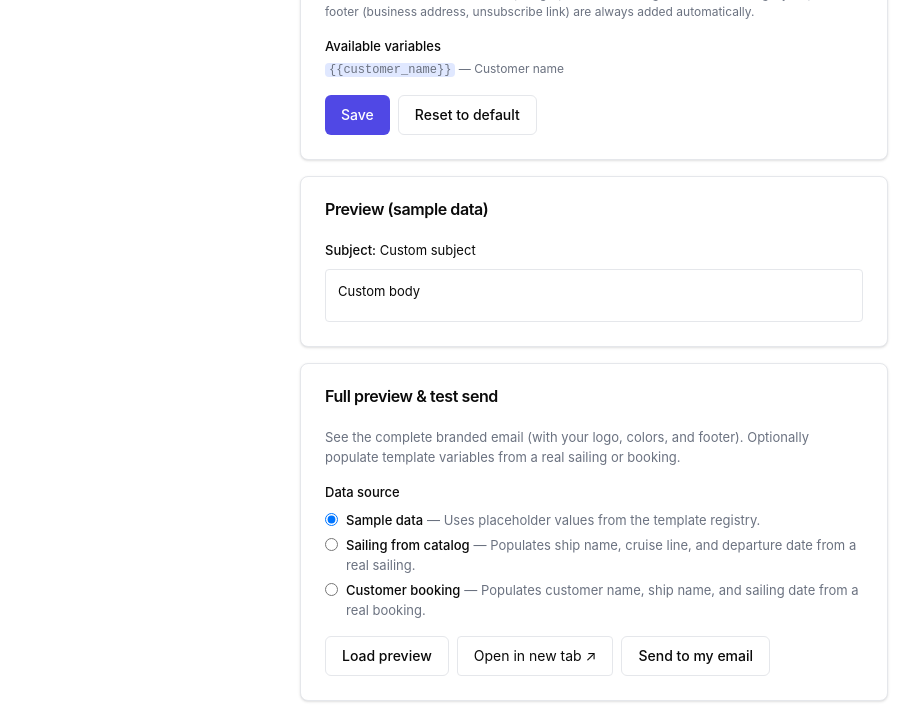
Test: EmailTemplatesSettingsPage — template-switch cascade reset (#1812) › clears the sailing selection chain and any loaded preview html on template-type switch
This screenshot has width=905, height=709.
(page scrolled)
Click the radio button labelled "Sailing from catalog". click: (332,544)
box: [325,538,338,551]
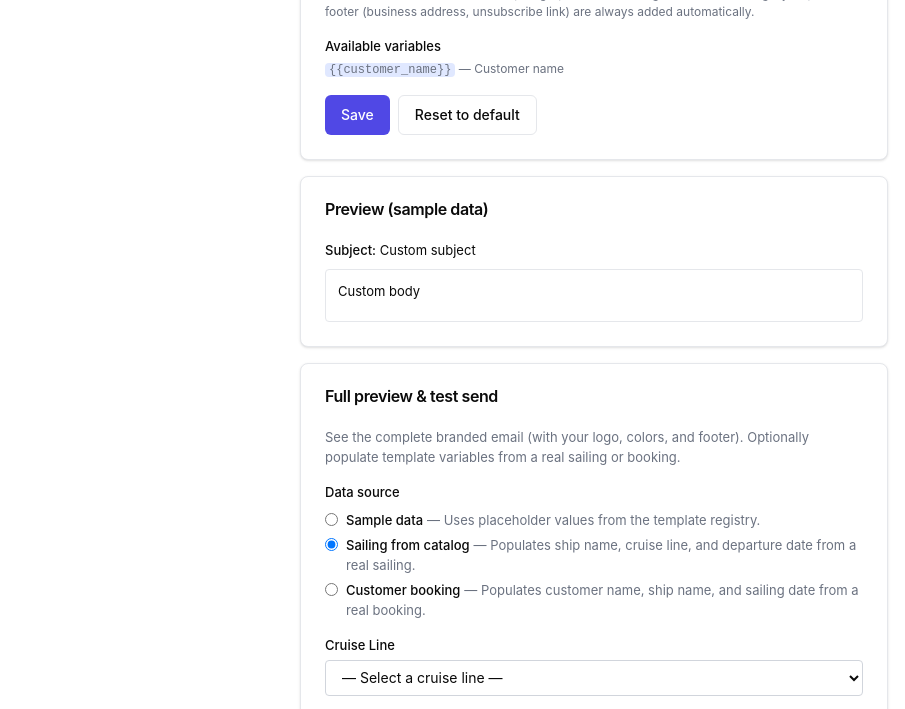
Select "Royal Seas" in the 1st dropdown. click: (594,678)
box: [325,660,863,696]
(page scrolled)
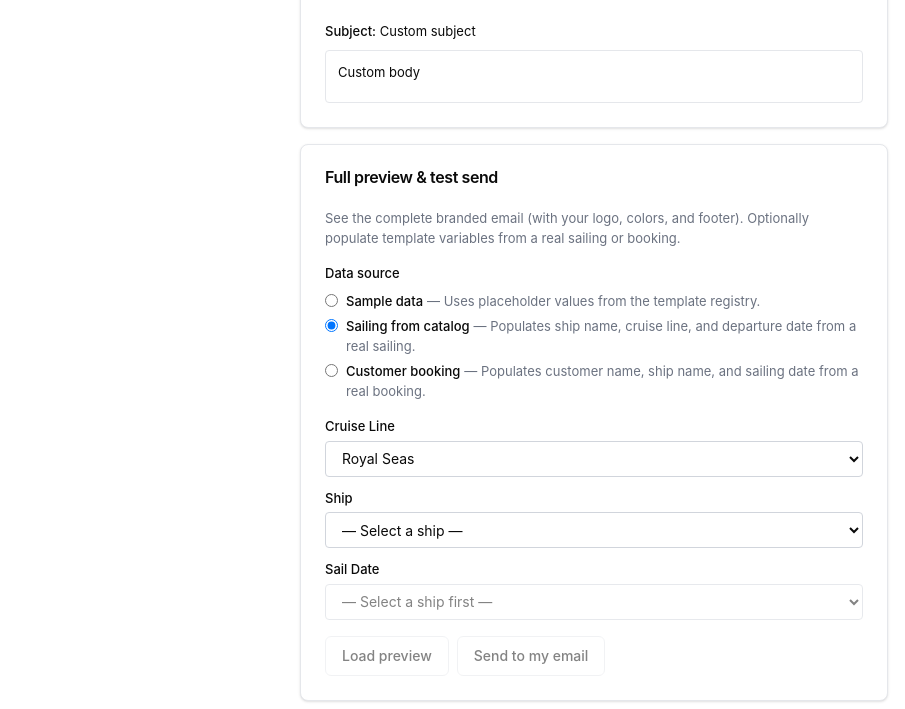
expect the 2nd dropdown is enabled: met
Select "Wanderer" in the 2nd dropdown. click: (594,530)
box: [325,512,863,548]
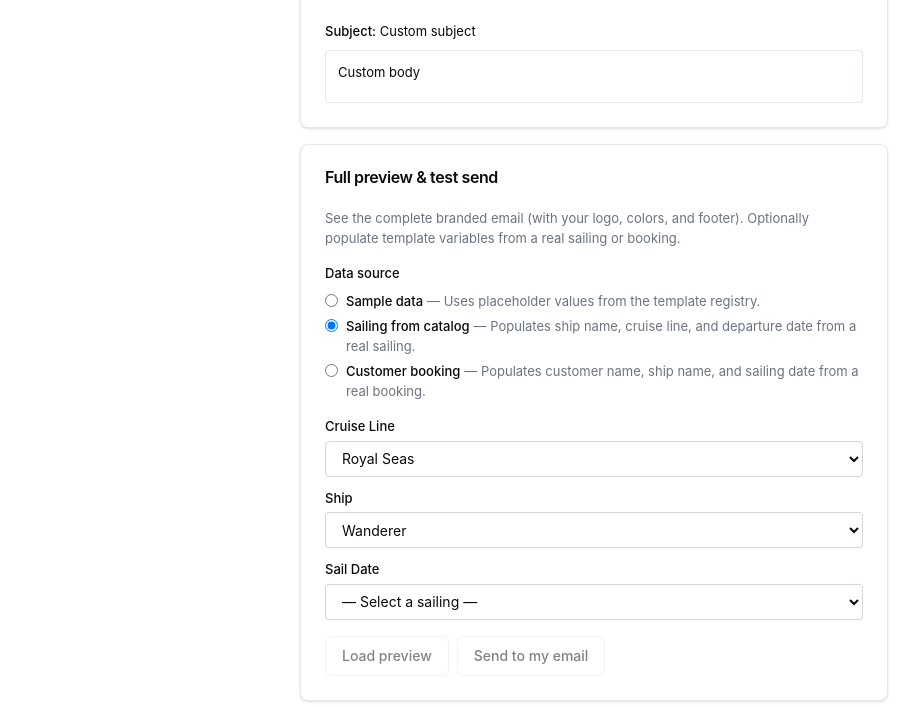
expect the dropdown below "Sail Date" is enabled: met
Select "2027-03-01 — Miami — 7n" in the dropdown below "Sail Date". click: (594,602)
box: [325,584,863,620]
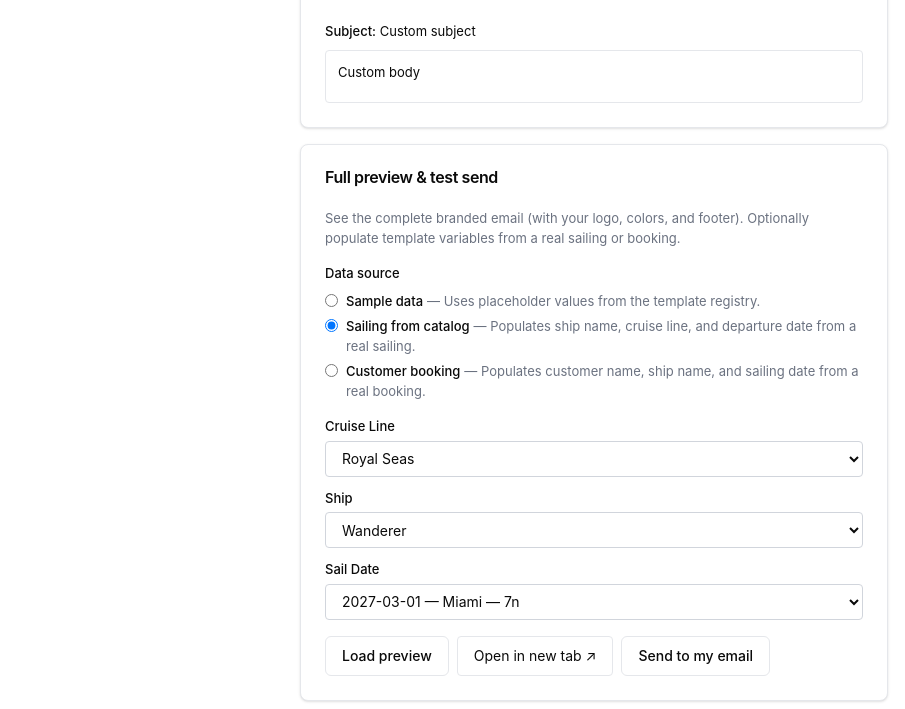
expect the button "Load preview" is enabled: met
Click the button "Load preview". click: (387,656)
box: [325,636,449,676]
(page scrolled)
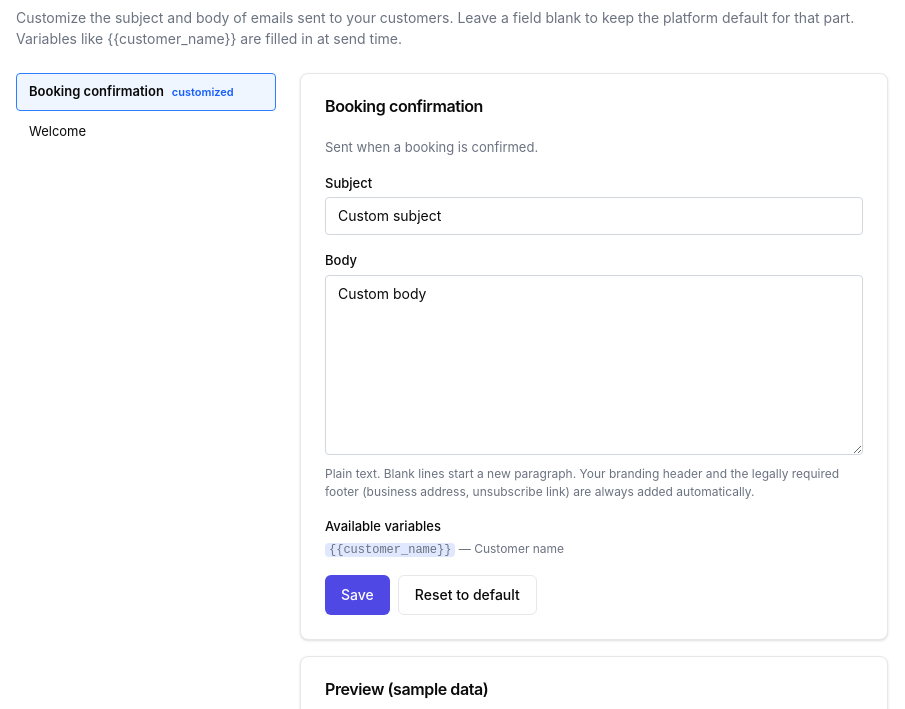
Note: Switch template type.
Click the button "Welcome". click: (58,130)
box: [16,112,276,150]
(page scrolled)
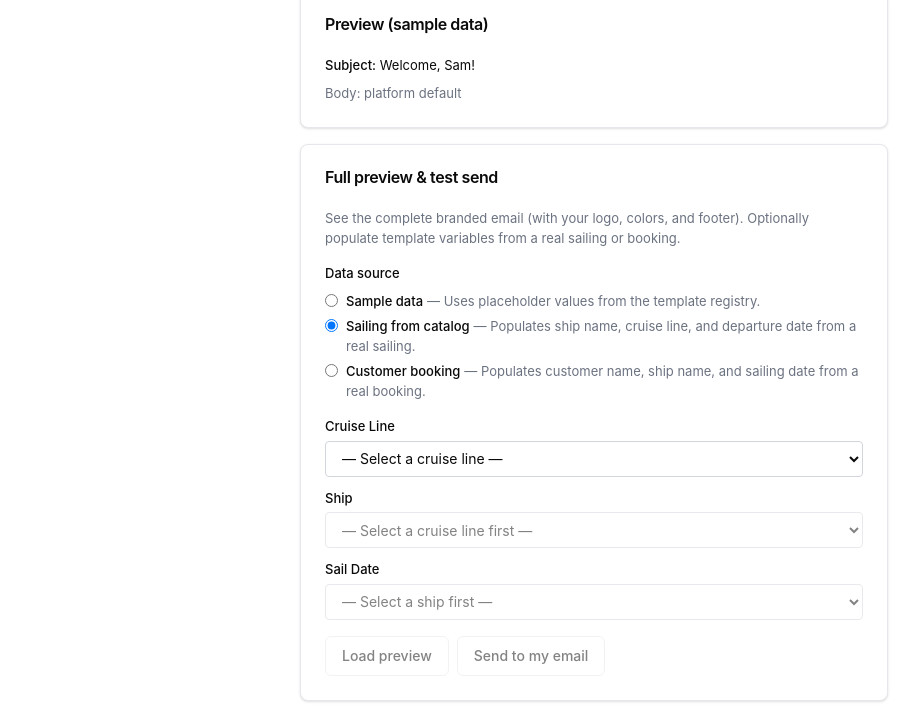
expect the radio button labelled "Sailing from catalog" is checked: met, box [325,319,338,332]
expect the 2nd dropdown is disabled: met, box [325,512,863,548]
expect the dropdown below "Sail Date" is disabled: met, box [325,584,863,620]
